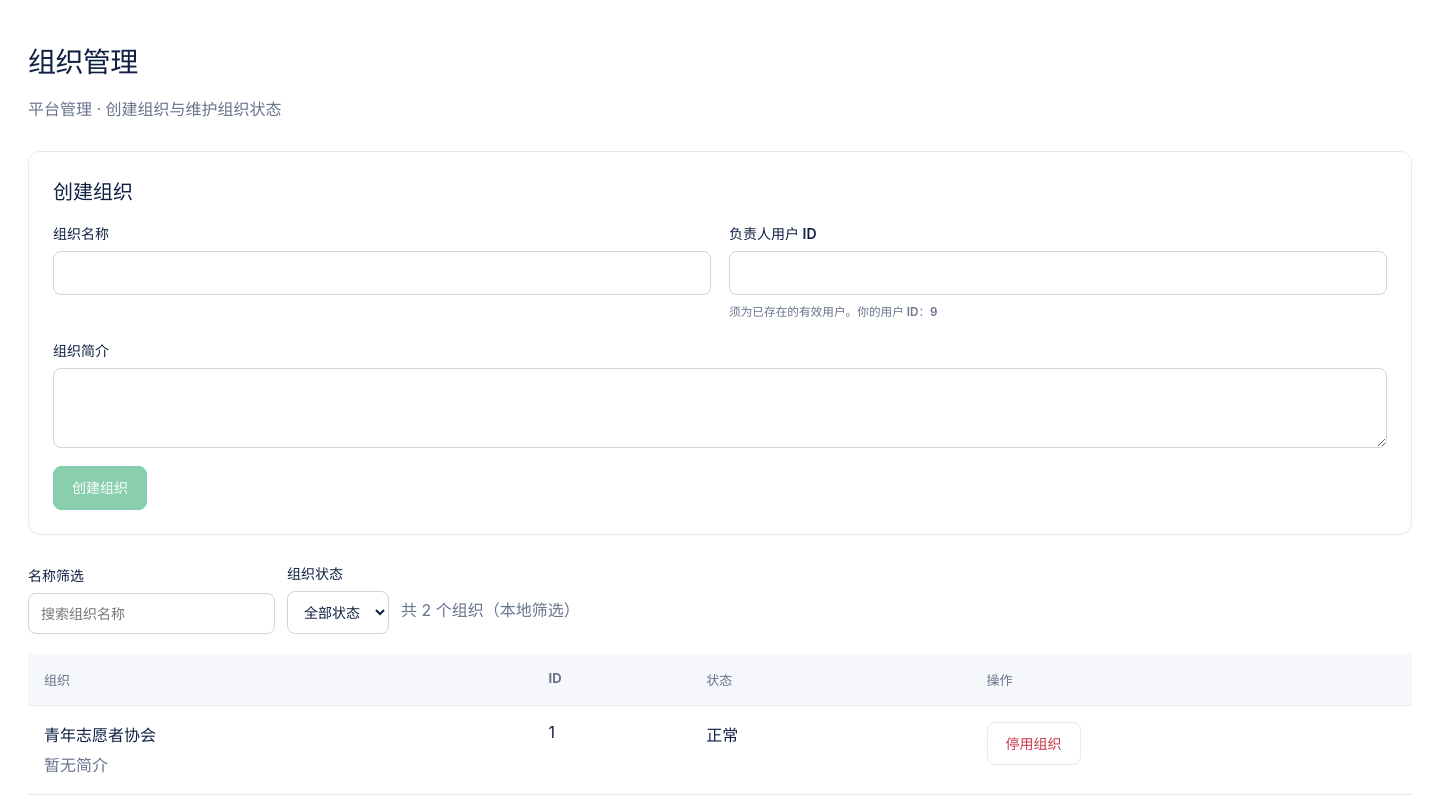
Test case: locally filters the complete administrator list without inventing server pagination
Type "阅读" into the search field with test id "organization-filter" at (152, 613), box [28,593,275,634]
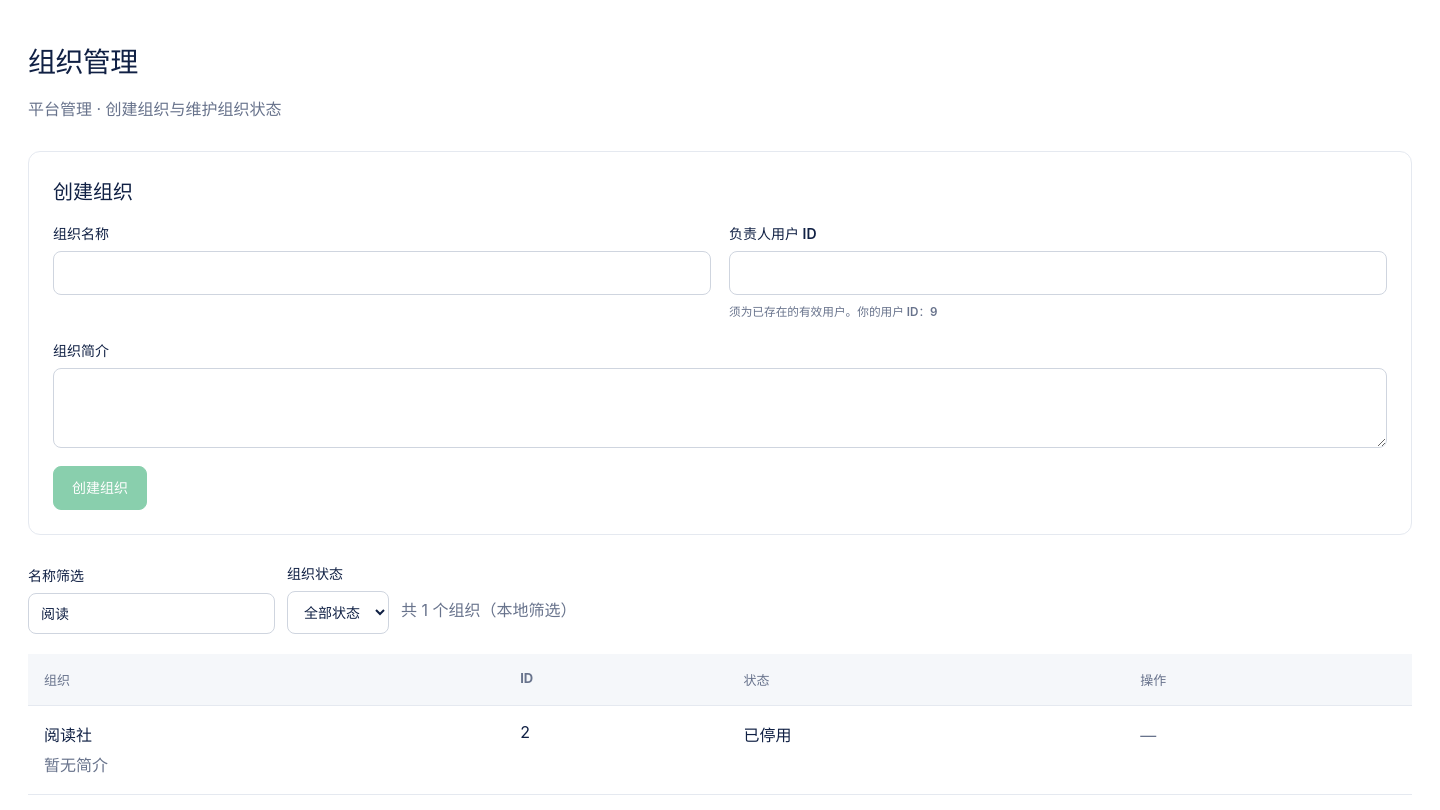
Expected: the text "阅读社" is shown, [44,725,92,745]
Expected: the text "青年志愿者协会" is gone
